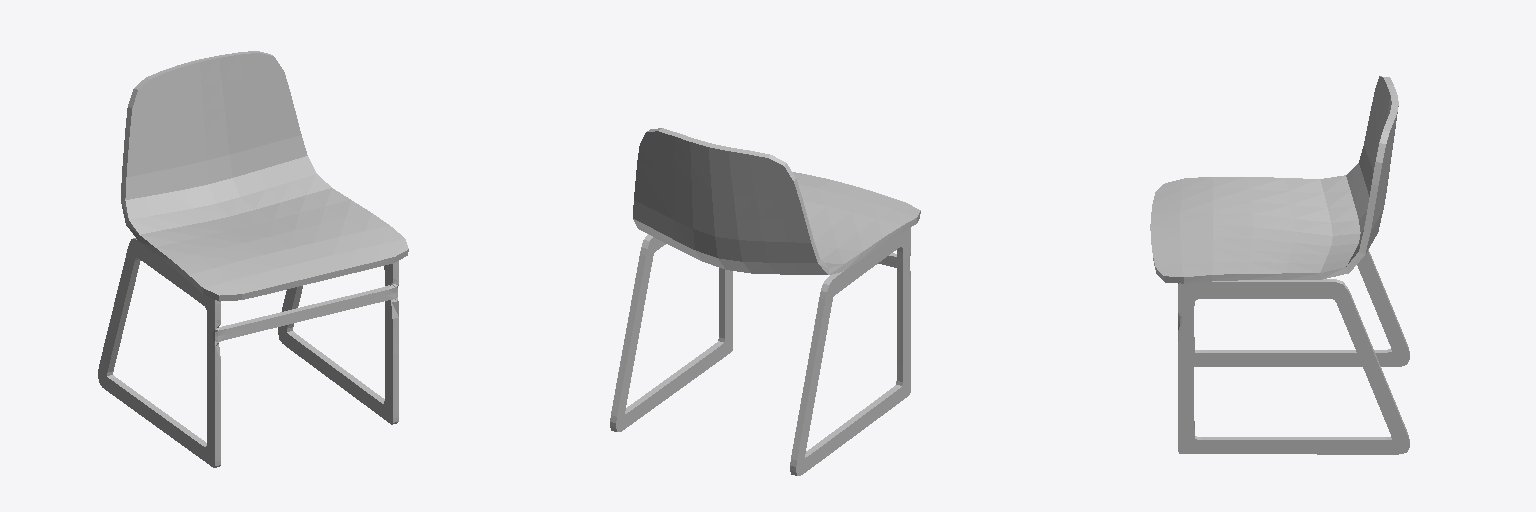
Rendered from Chair.obj.
The picture shows the model from 3 angles: view 1: azimuth 30°, elevation 25°; view 2: azimuth 150°, elevation 25°; view 3: azimuth 270°, elevation 25°; orthographic projection.
Parts seen in each view (by area): view 1: Plane.058_Plane.034; view 2: Plane.058_Plane.034; view 3: Plane.058_Plane.034.
Part boxes in pixels (x1,y1,x2,y2): Plane.058_Plane.034: (98, 51, 408, 467); Plane.058_Plane.034: (610, 128, 920, 475); Plane.058_Plane.034: (1150, 76, 1409, 454).
Size of the model in its own units: 0.8421 by 1.22 by 0.9346.